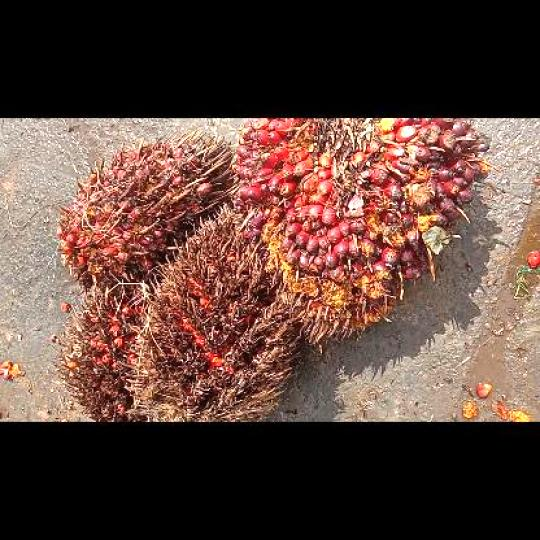masak: (231, 118, 488, 348), (55, 130, 236, 298)
terlalu masak: (122, 202, 300, 420), (52, 285, 148, 421)
